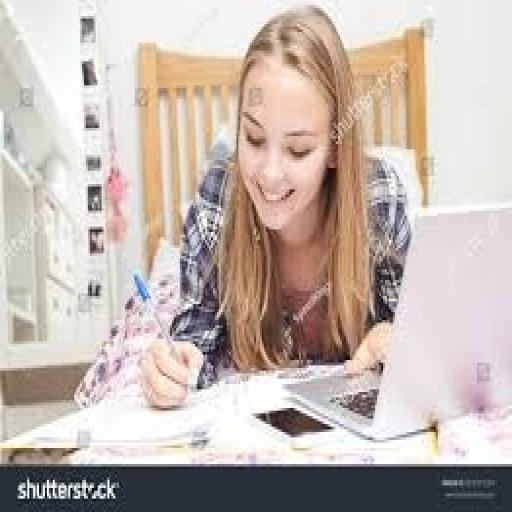using_laptop: (281, 197, 510, 443)
